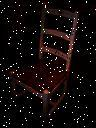Silla: (6, 3, 83, 127)
